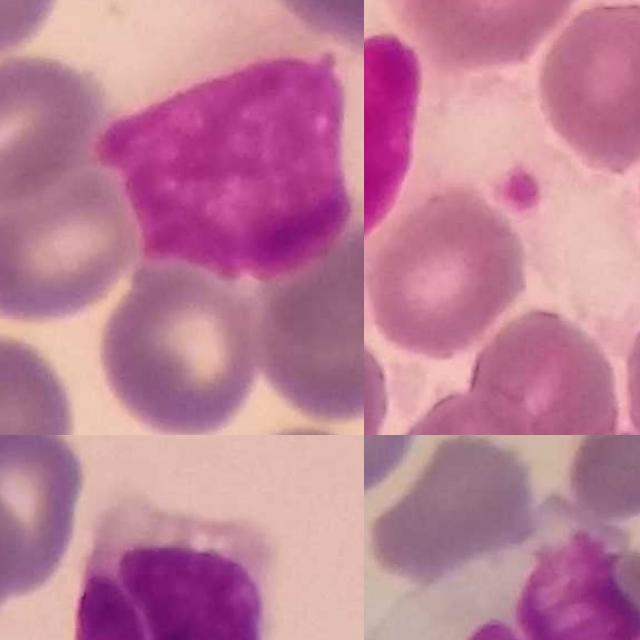Monocyte: (99, 0, 364, 279), (44, 495, 271, 640), (364, 535, 640, 640), (364, 0, 424, 277)
